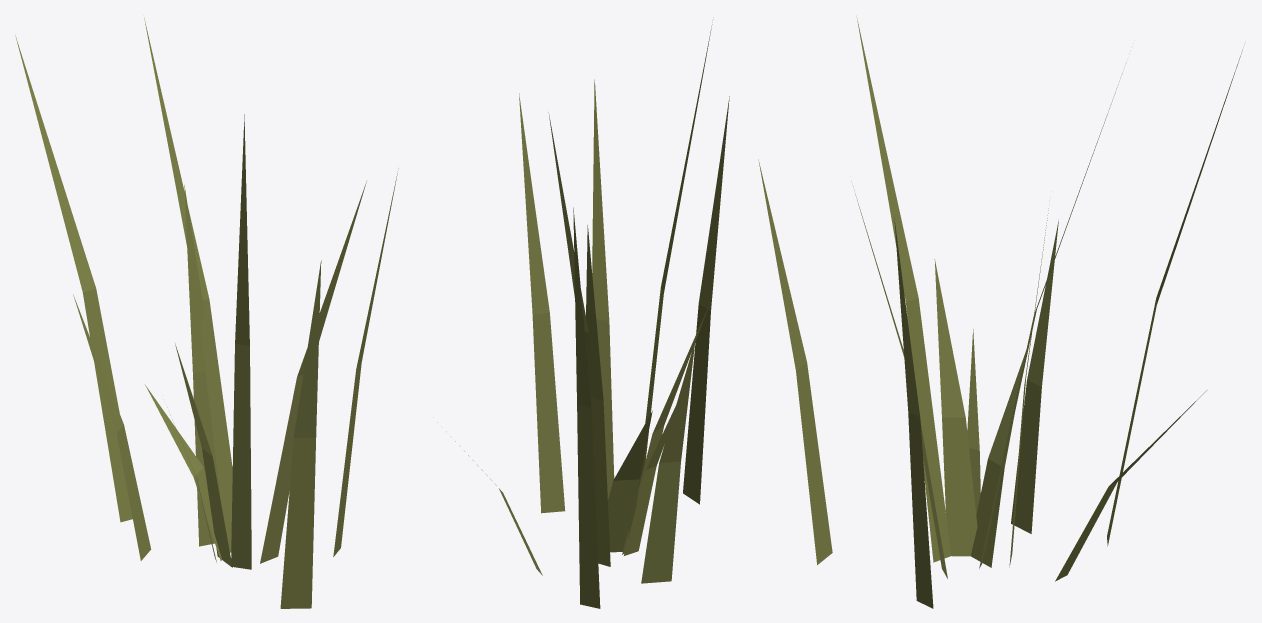
File: grass_tuft.glb
The picture shows the model from 3 angles, left to right: view 1: azimuth 30°, elevation 25°; view 2: azimuth 150°, elevation 25°; view 3: azimuth 270°, elevation 25°; orthographic projection. The views are drawn at different scales.
Visible parts, largest first — view 1: Grass; view 2: Grass; view 3: Grass.
Part boxes in pixels (x1,y1,x2,y2): Grass: (15,17,398,608); Grass: (437,20,729,608); Grass: (758,16,1242,608).
Size of the model in its own units: 0.1222 by 0.2307 by 0.1947.
